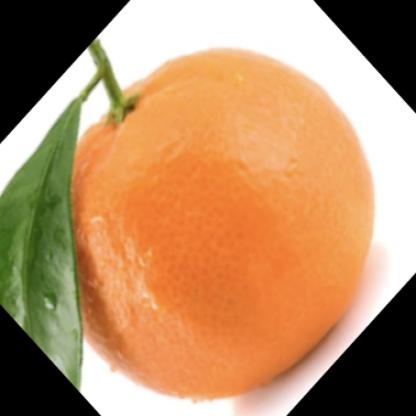fresh: (49, 45, 375, 403)
